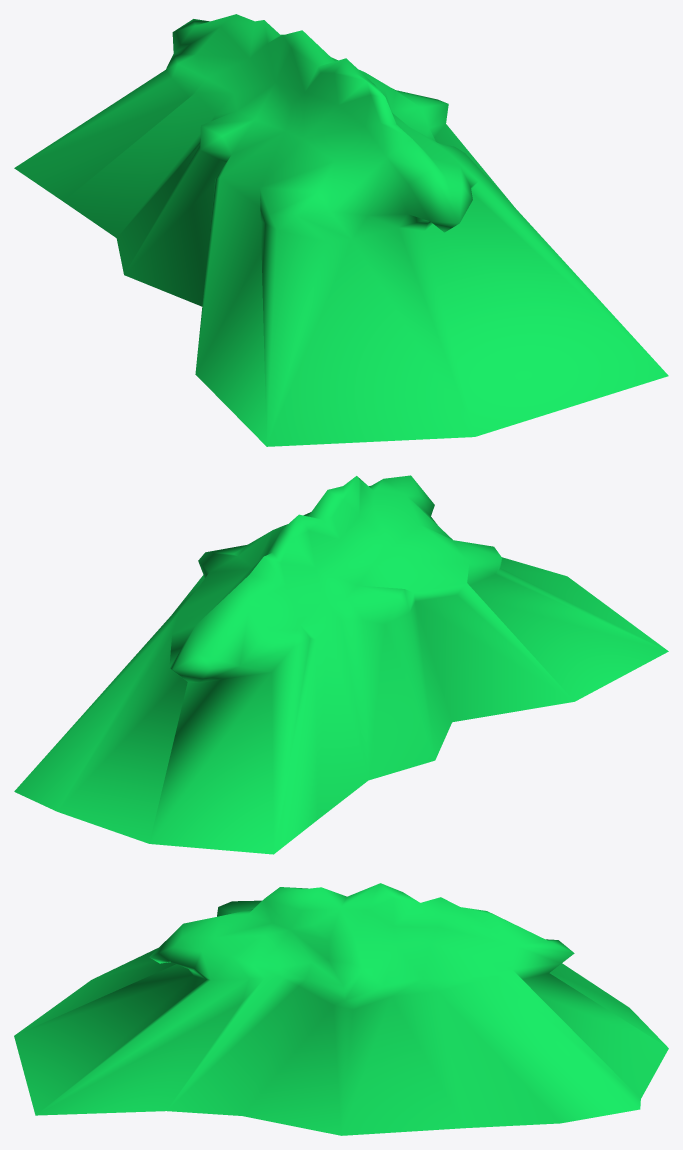
Rendered from Island_01.fbx.
3 renders of one model, top to bottom at view 1: azimuth 30°, elevation 25°; view 2: azimuth 150°, elevation 25°; view 3: azimuth 270°, elevation 25°, orthographic. The views are drawn at different scales.
Visible parts, largest first — view 1: Cube.002; view 2: Cube.002; view 3: Cube.002.
Part boxes in pixels (x1,y1,x2,y2): Cube.002: [14, 14, 668, 446]; Cube.002: [14, 475, 668, 854]; Cube.002: [14, 883, 668, 1135].
Size of the model in its own units: 11332 by 5933 by 19446.
